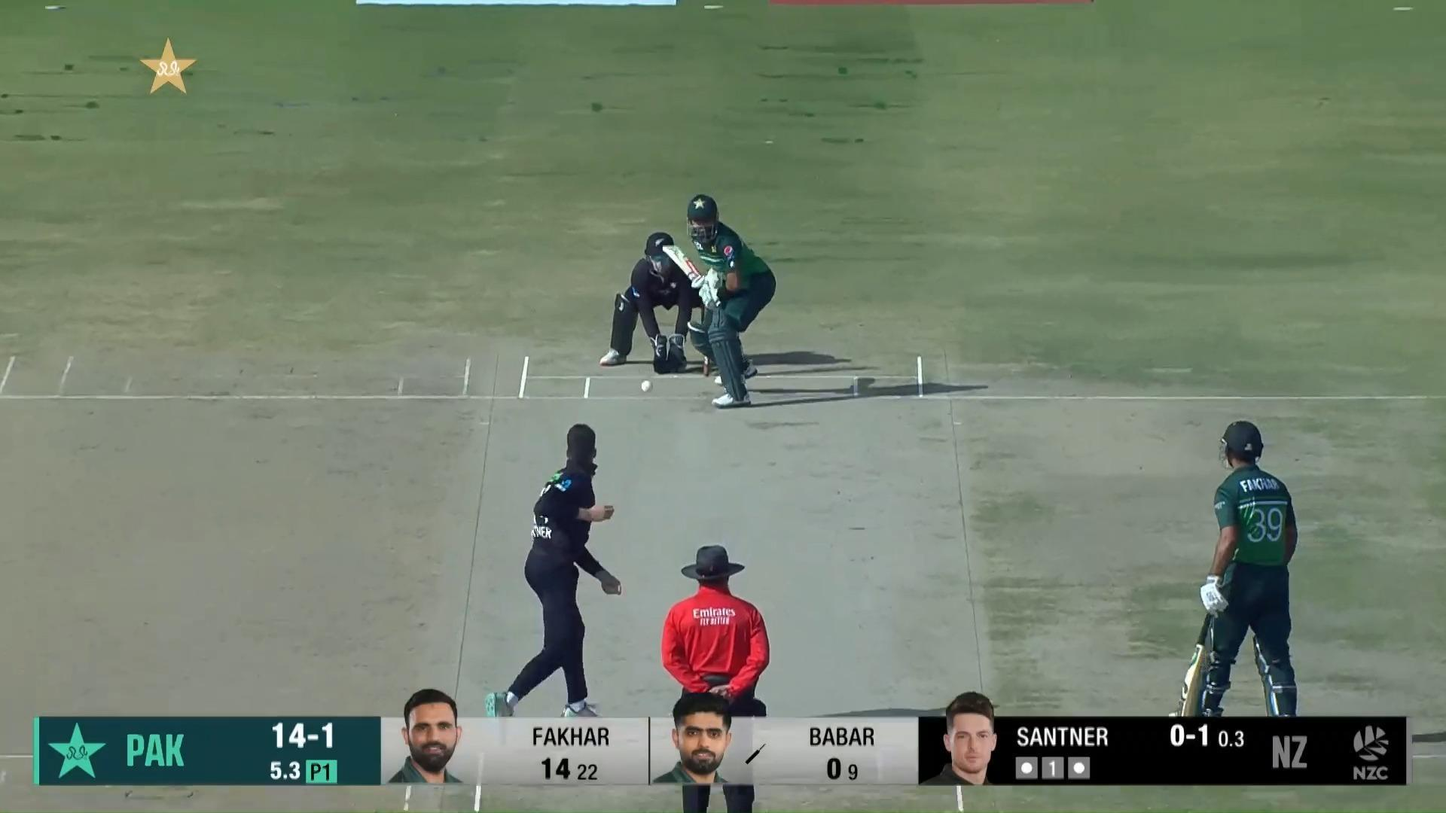BM 1: (661, 195, 776, 409)
BO: (486, 422, 623, 719)
